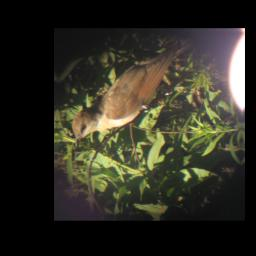Cuckoo: (71, 32, 199, 150)
